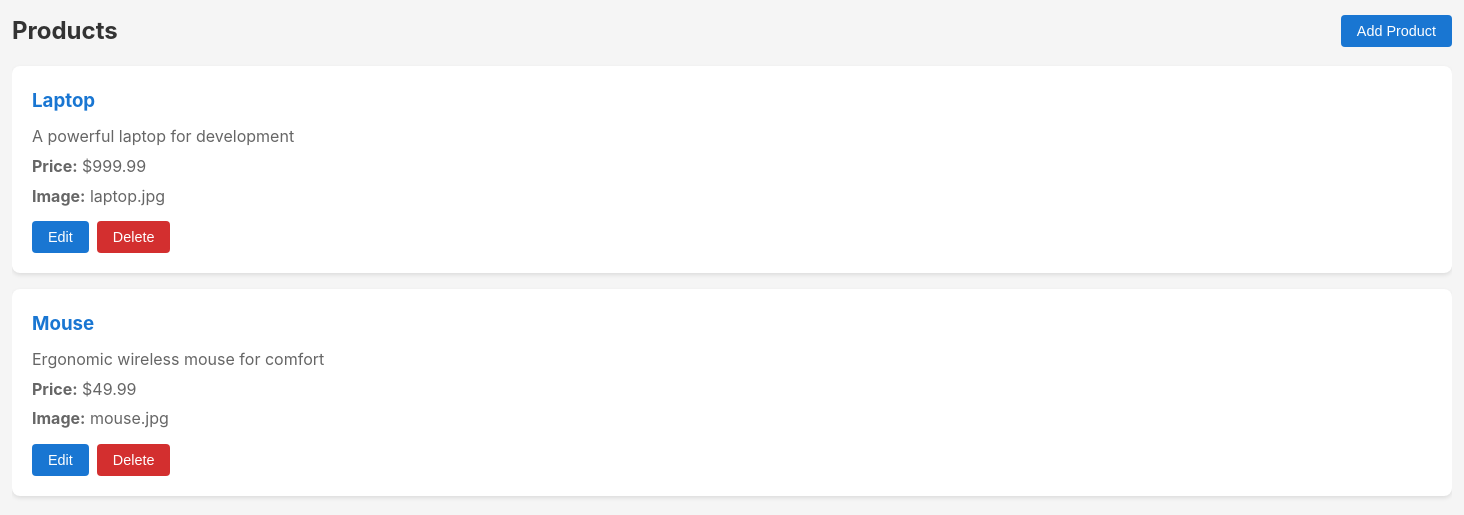
Test: ProductList › opens new product form when clicking Add Product
Click the button "Add Product" at coordinates (1396, 31), box x1=1341 y1=15 x2=1452 y2=47
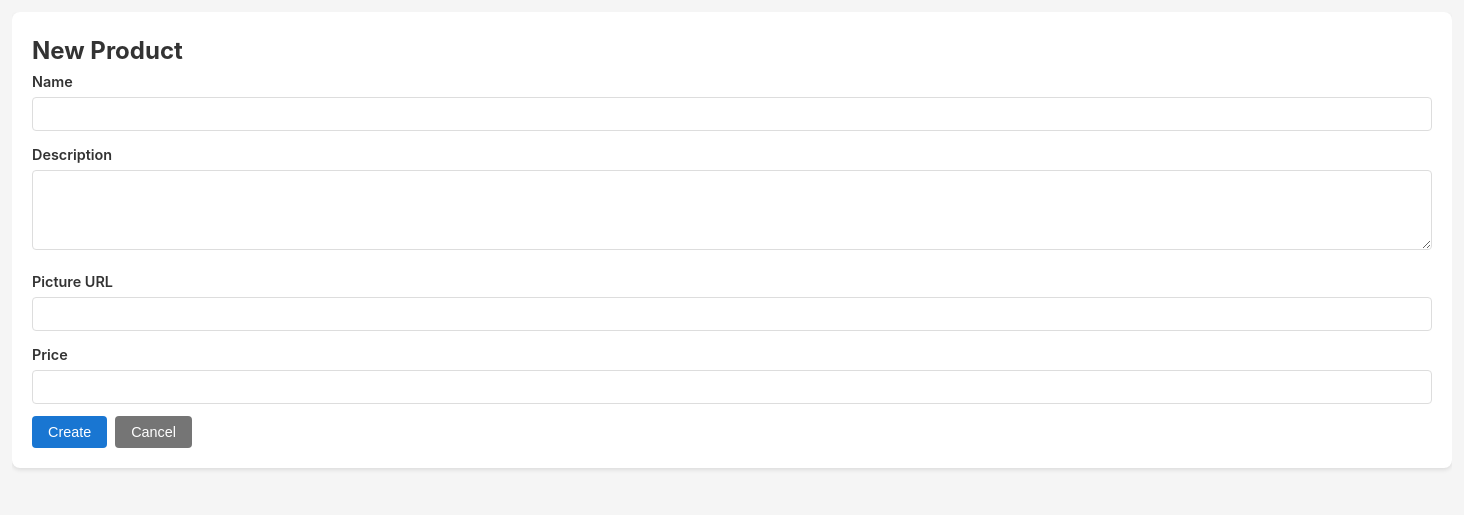
Now the heading "New Product" is shown, box x1=32 y1=36 x2=183 y2=65
